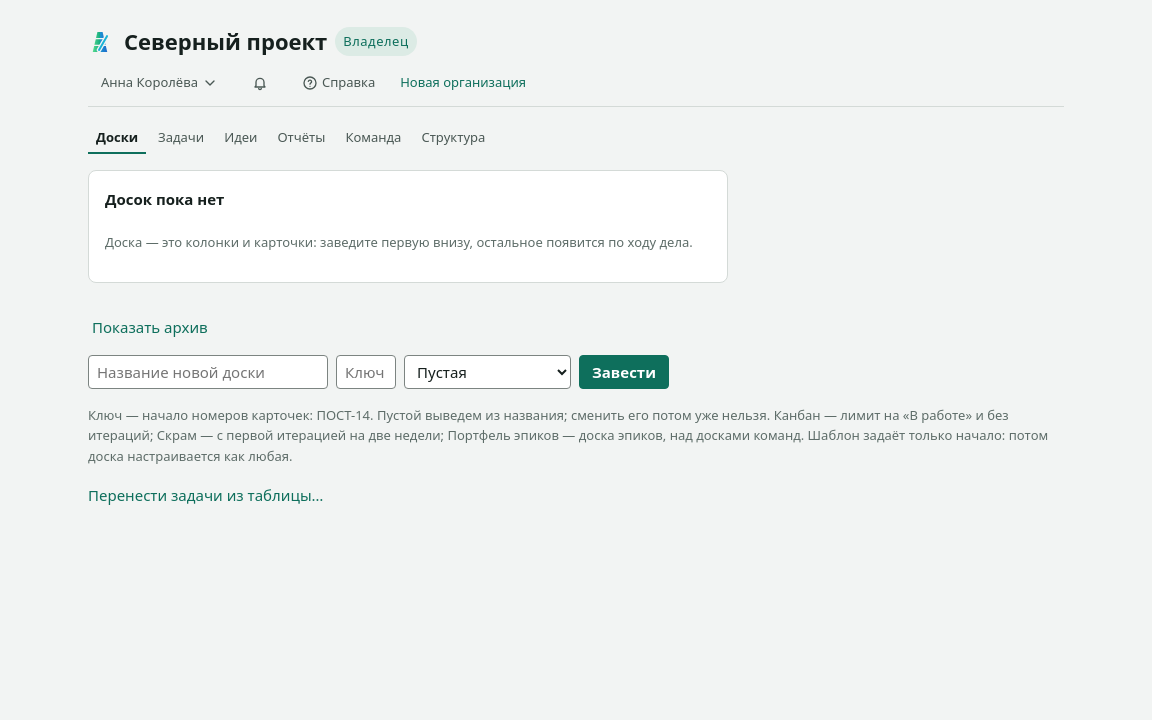
Test: имя открывает личные настройки: язык, оформление, вход и выход
Expected: the heading "Северный проект" is shown, [124,24,327,59]
Expected: the button "Оформление" is not shown
Click the button "Анна Королёва".
click(159, 83)  # box [88,67,231,98]
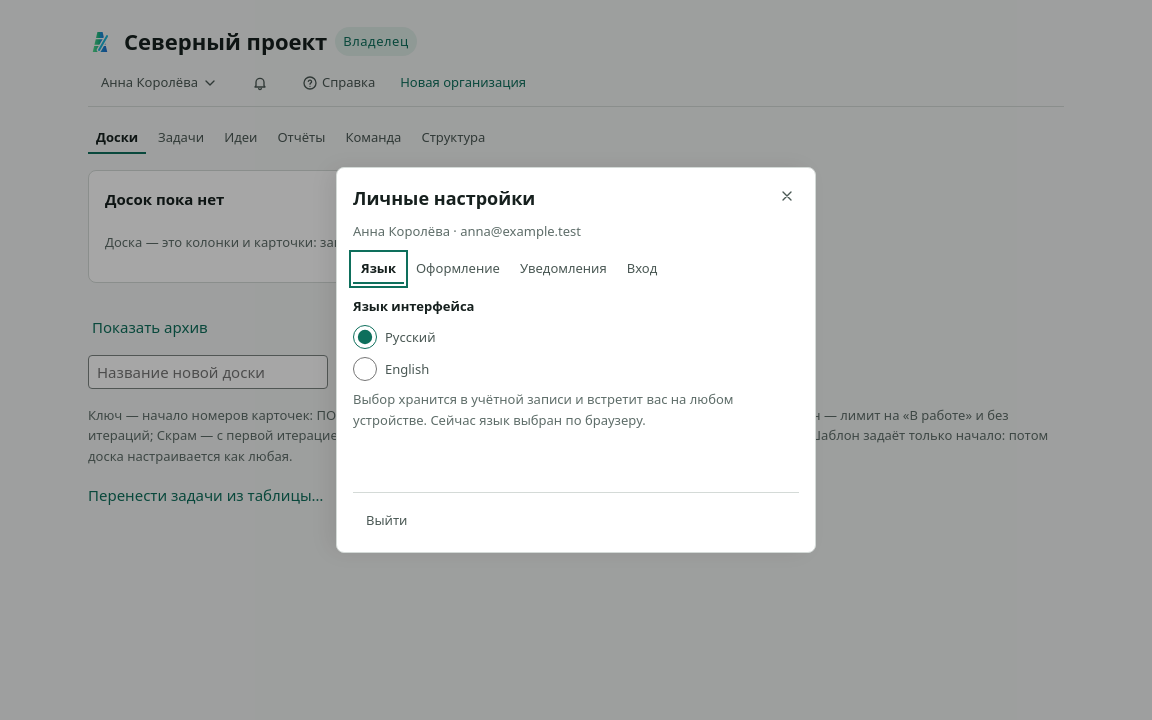
Expected: the radio button labelled "Русский" is checked, [353,325,377,349]
Expected: the dialog "Личные настройки" shows "выбран по браузеру", [427,411,646,429]
Expected: the button "Выйти" is shown, [353,505,420,536]
Click the button named "Закрыть".
click(787, 196)  # box [775,184,799,208]
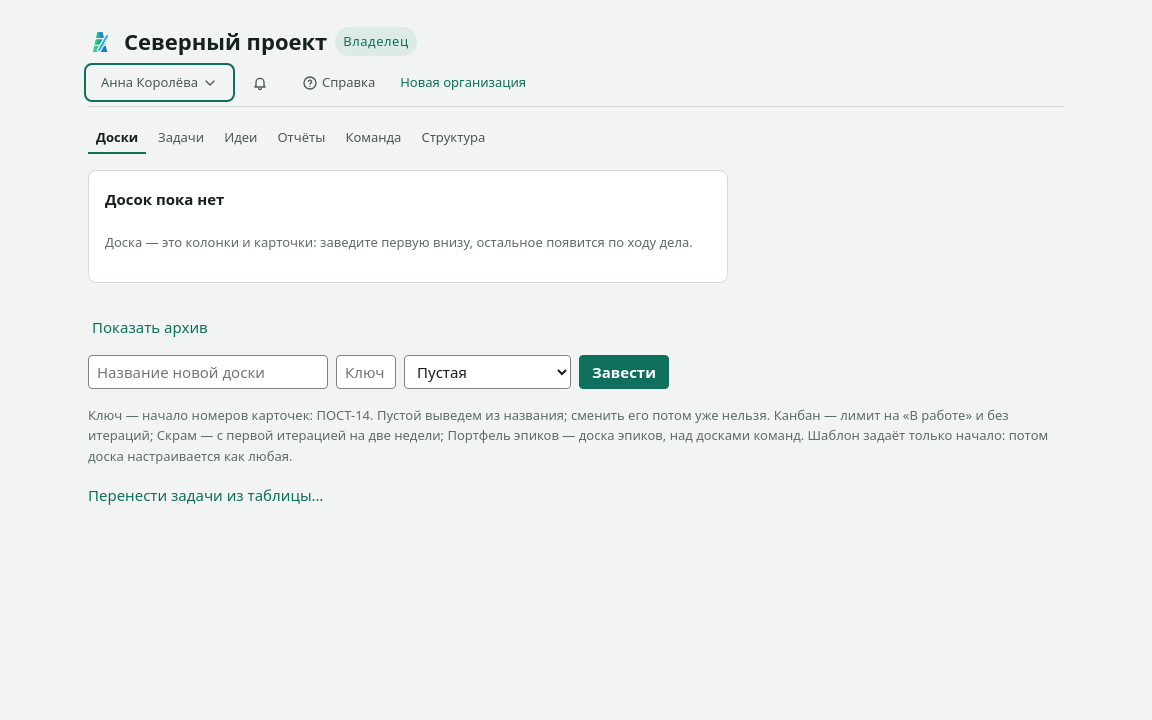
Expected: the dialog is gone
